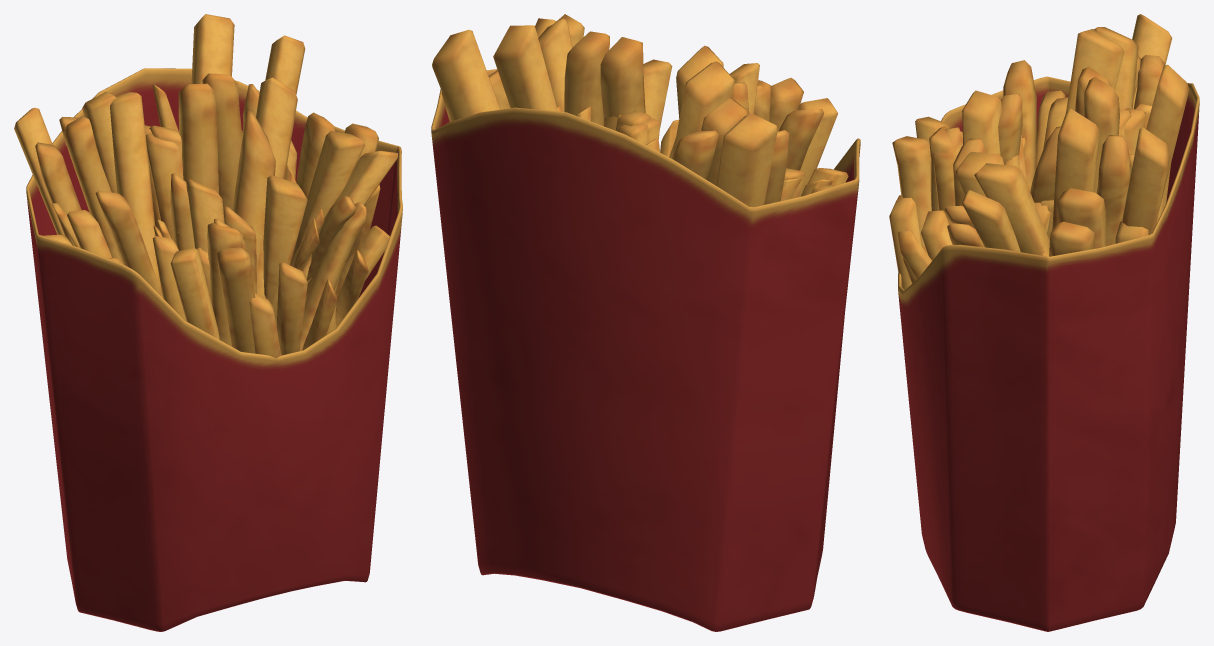
File: FrenchFries_A.fbx
The picture shows the model from 3 angles, left to right: view 1: azimuth 30°, elevation 25°; view 2: azimuth 150°, elevation 25°; view 3: azimuth 270°, elevation 25°; orthographic projection. The views are drawn at different scales.
Visible parts, largest first — view 1: FrenchFries_A; view 2: FrenchFries_A; view 3: FrenchFries_A.
Boxes of the visible parts, x1,y1,x2,y2 form: FrenchFries_A: (14,14,402,631); FrenchFries_A: (431,14,860,631); FrenchFries_A: (889,14,1199,631).
Size of the model in its own units: 0.1191 by 0.1595 by 0.0863.
